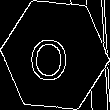O_N: (34, 27, 76, 83)
